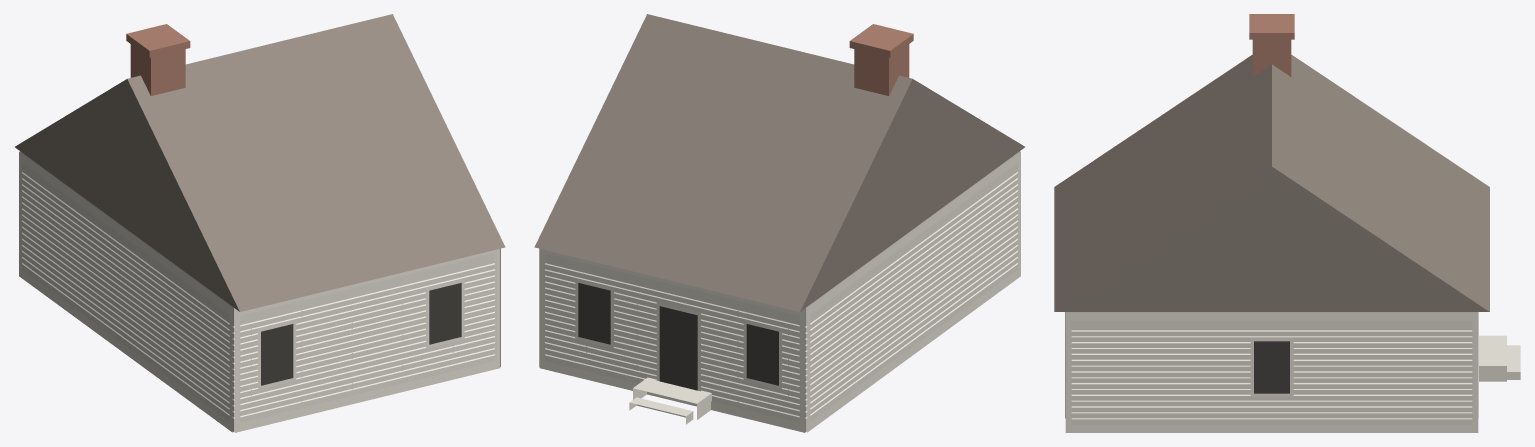
The model's file is recon_1835_blk_south_water_franklin_d5_01__inferred_1835.glb.
3 renders of one model, left to right at view 1: azimuth 30°, elevation 25°; view 2: azimuth 150°, elevation 25°; view 3: azimuth 270°, elevation 25°, orthographic. The views are drawn at different scales.
Parts seen in each view (by area): view 1: recon_1835_blk_south_water_franklin_d5_01__inferred_1835; view 2: recon_1835_blk_south_water_franklin_d5_01__inferred_1835; view 3: recon_1835_blk_south_water_franklin_d5_01__inferred_1835.
Boxes of the visible parts, x1,y1,x2,y2 form: recon_1835_blk_south_water_franklin_d5_01__inferred_1835: [15, 14, 505, 432]; recon_1835_blk_south_water_franklin_d5_01__inferred_1835: [534, 14, 1024, 432]; recon_1835_blk_south_water_franklin_d5_01__inferred_1835: [1054, 14, 1520, 432].
Bounding box in the file's own units: 6.5 × 7.14 × 10.12.
